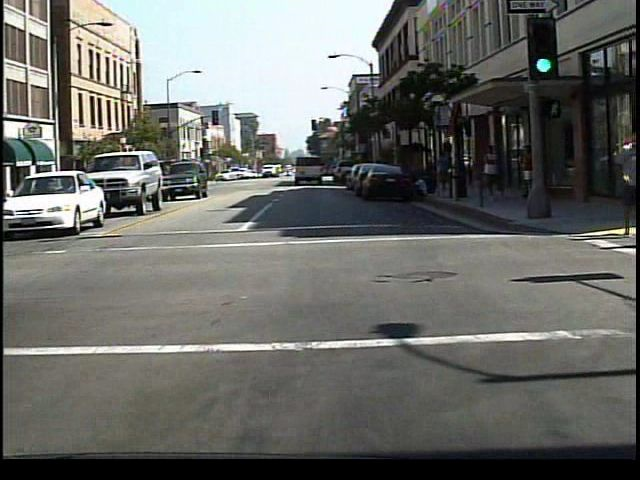person: (480, 140, 513, 207)
